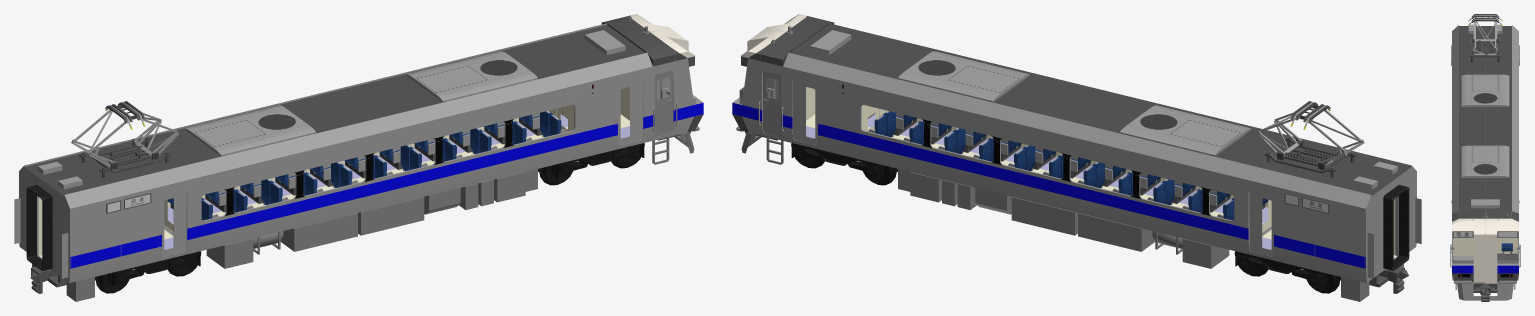
3 views of the same model, side by side, from view 1: azimuth 30°, elevation 25°; view 2: azimuth 150°, elevation 25°; view 3: azimuth 270°, elevation 25° (orthographic). The views are drawn at different scales.
Visible parts, largest first — view 1: Body0_outer, AirCon, UF_equip, Seat, horo_UA, door.R, Floor, panto_0, frame_out.001, frame_out, glass-door_UA, wheel (+5 smaller); view 2: Body0_outer, AirCon, UF_equip, Seat, horo_UA, door.L, Floor, panto_0, frame_out.001, frame_out, glass-door_UA, Coupler (+5 smaller); view 3: Body0_outer, AirCon, Skirt, OF_equip, C_door.R, C_door.L, Sept, panto_0, Coupler, con_base, panto_3, 方向幕 (+3 smaller).
Boxes of the visible parts, x1,y1,x2,y2 form: Body0_outer: (19,14,703,282); AirCon: (38,30,625,189); UF_equip: (32,137,669,301); Seat: (167,111,567,220); horo_UA: (14,185,68,278); door.R: (161,78,642,256); Floor: (38,114,629,259); panto_0: (79,136,170,177); frame_out.001: (108,251,200,286); frame_out: (552,143,644,178); glass-door_UA: (654,71,672,136); wheel: (538,143,644,185); Body0_outer: (732,14,1416,282); AirCon: (810,30,1397,189); UF_equip: (766,137,1403,301); Seat: (868,111,1268,220); horo_UA: (1367,185,1421,278); door.L: (793,78,1274,256); Floor: (806,114,1397,259); panto_0: (1265,136,1356,177); frame_out.001: (1235,251,1327,286); frame_out: (791,143,883,178); glass-door_UA: (763,71,781,136); Coupler: (745,131,1408,293); Body0_outer: (1452,25,1518,280); AirCon: (1461,24,1509,208); Skirt: (1454,280,1516,300); OF_equip: (1450,45,1520,278); C_door.R: (1485,233,1497,283); C_door.L: (1473,233,1485,283); Sept: (1453,238,1517,255); panto_0: (1470,34,1500,62); Coupler: (1473,283,1497,301); con_base: (1497,243,1517,260); panto_3: (1468,14,1502,25); 方向幕: (1453,232,1517,237).
Size of the model in its own units: 21 by 5.19 by 2.94.
